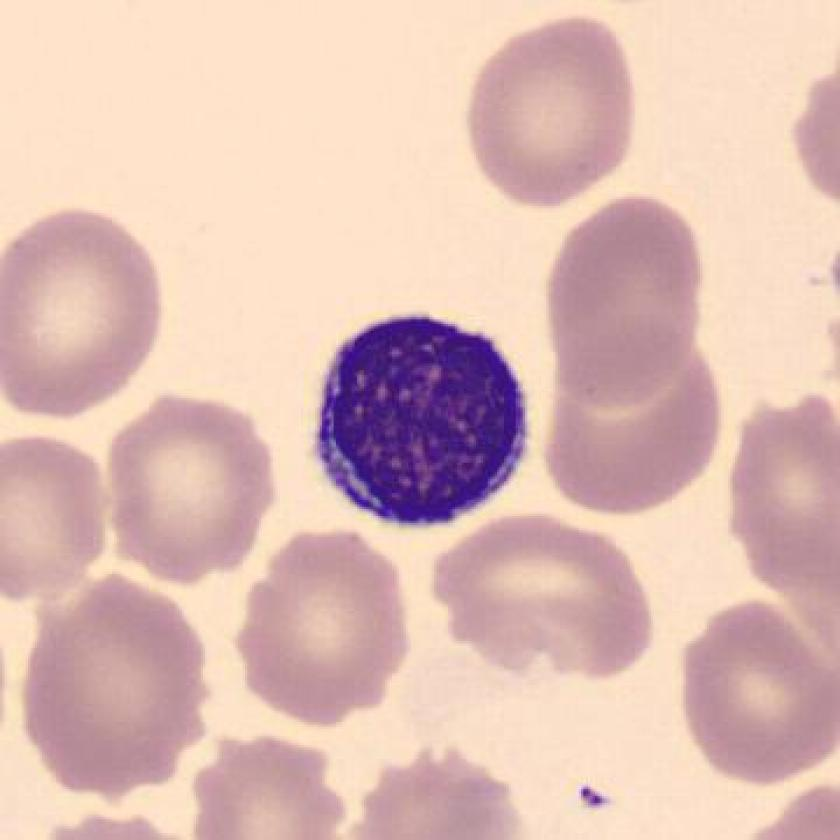lymphocyte: (302, 297, 538, 547)
